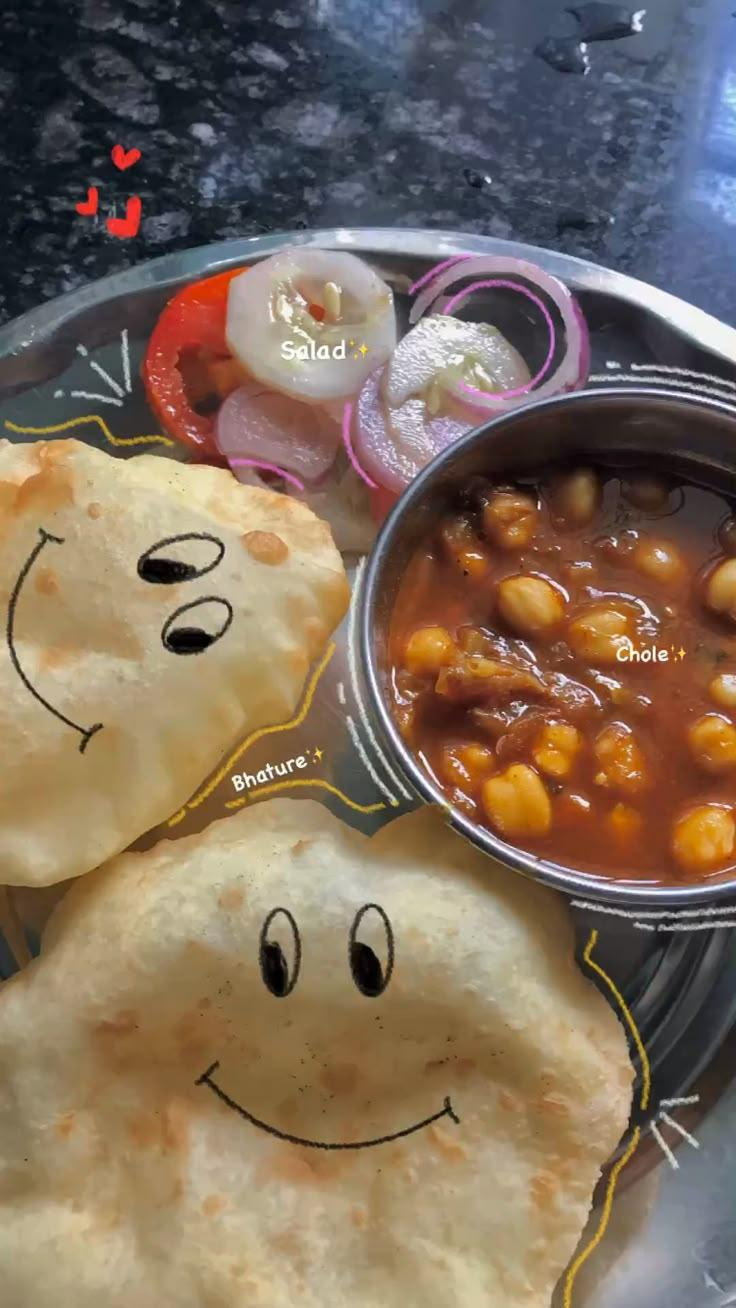chole: (383, 424, 736, 854)
puri: (10, 471, 497, 1300)
salad: (163, 281, 572, 487)
